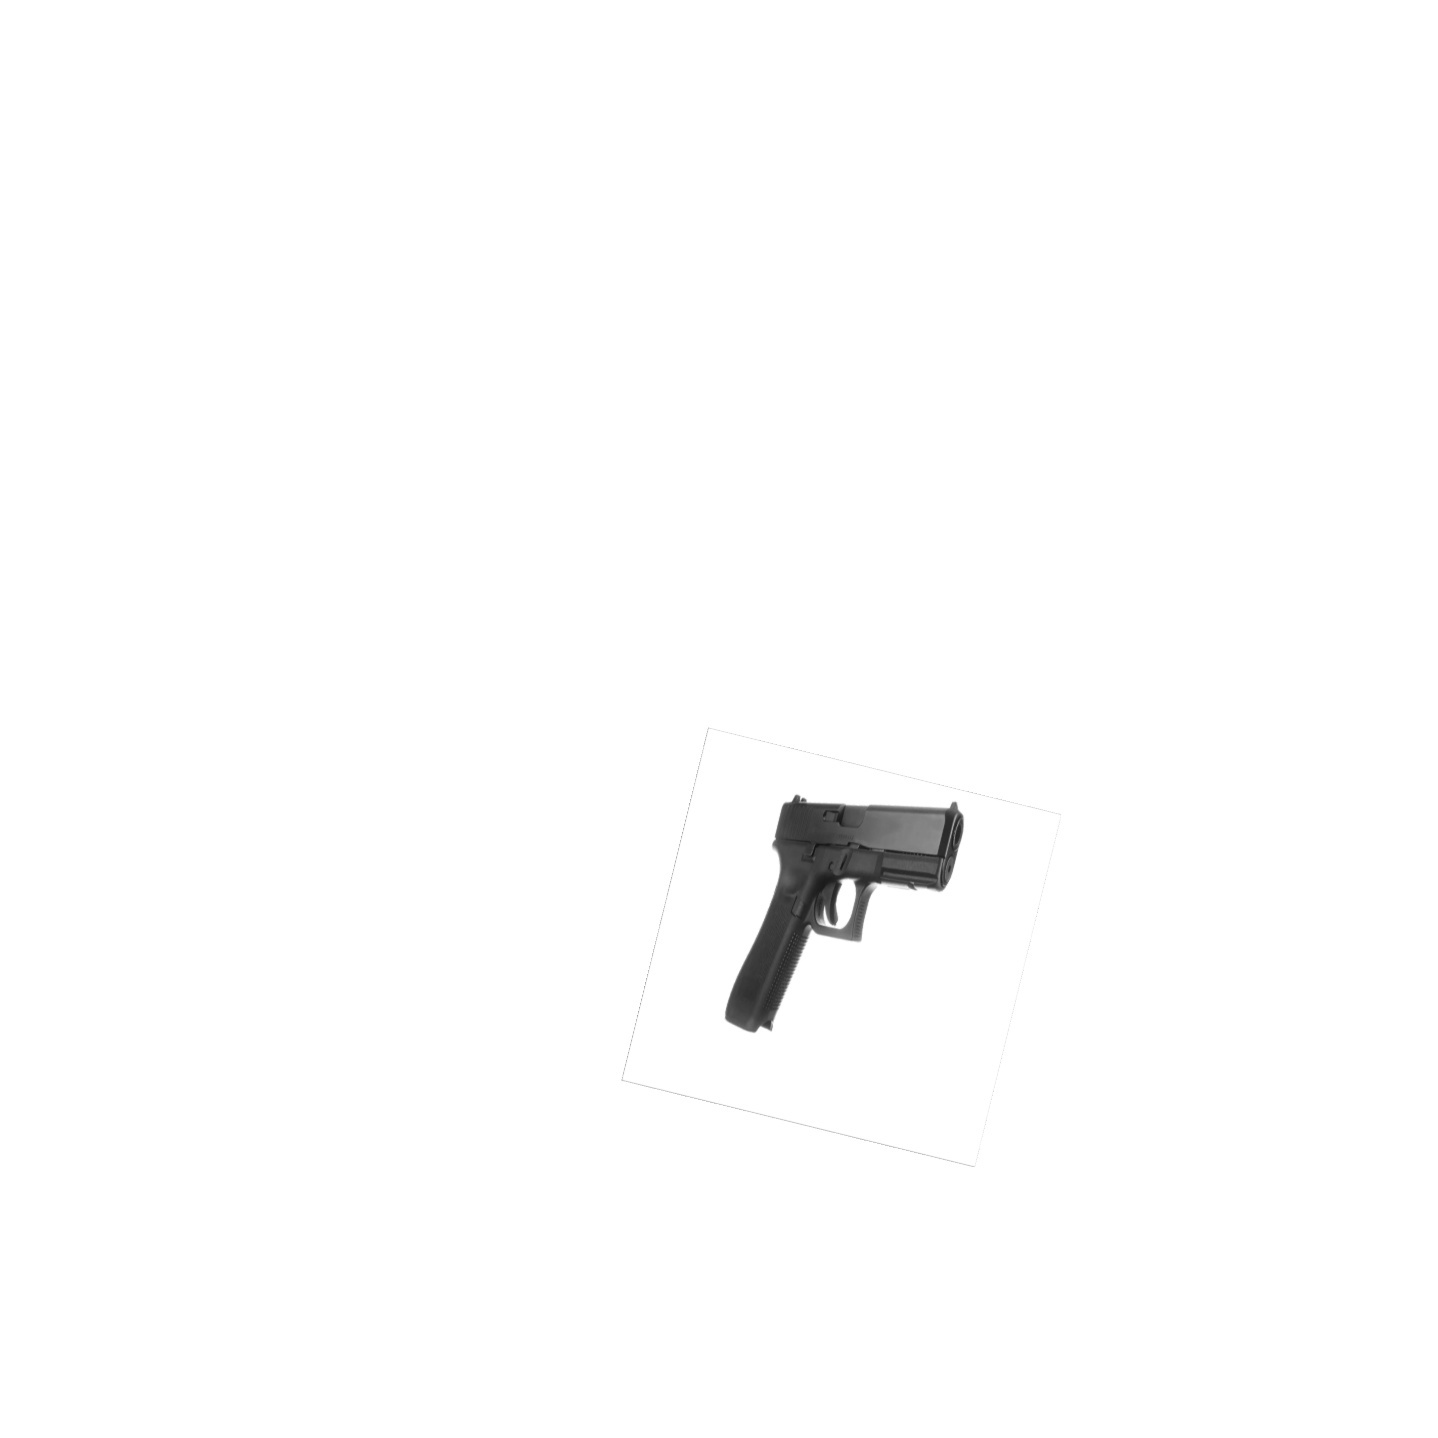gun: (722, 791, 965, 1034)
